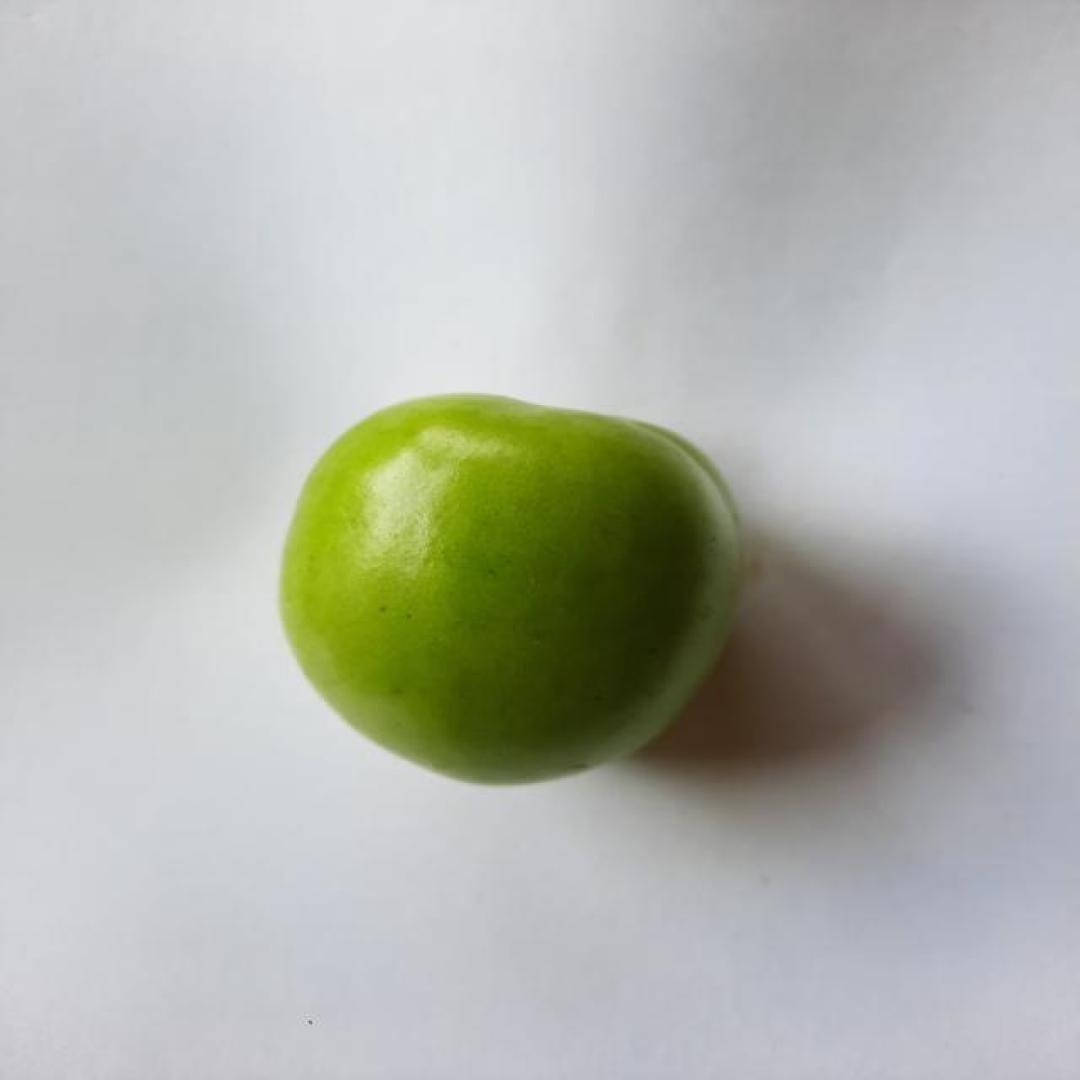mentah: (274, 388, 748, 790)
